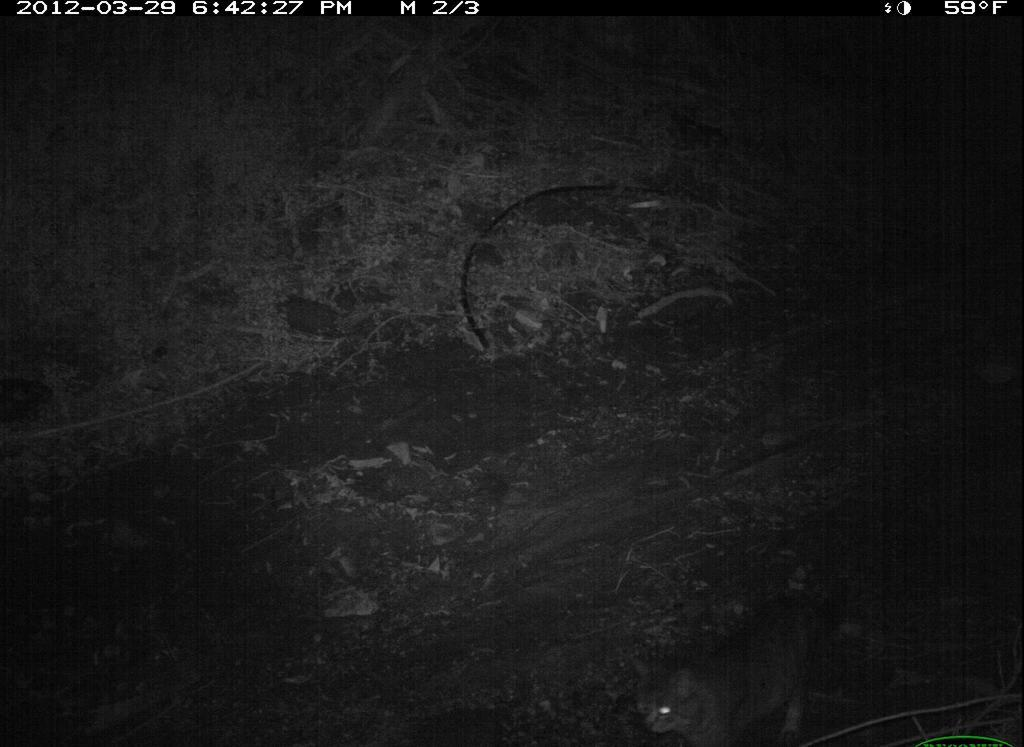cat: (628, 579, 876, 743)
